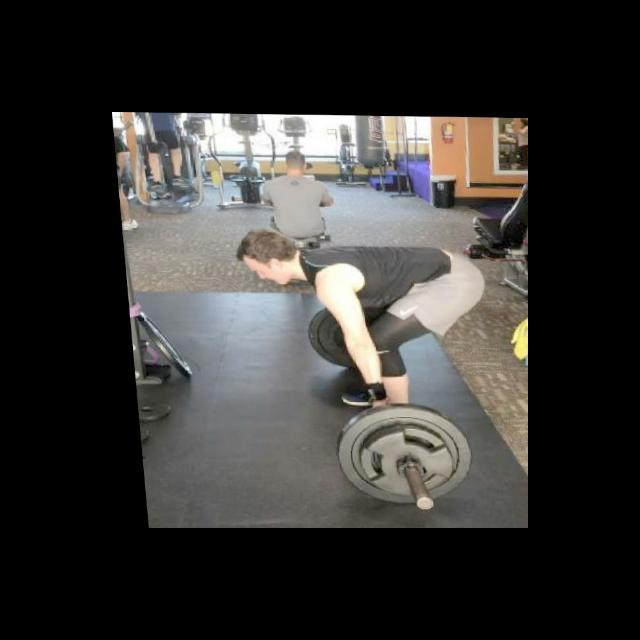barbell: (325, 402, 471, 513)
